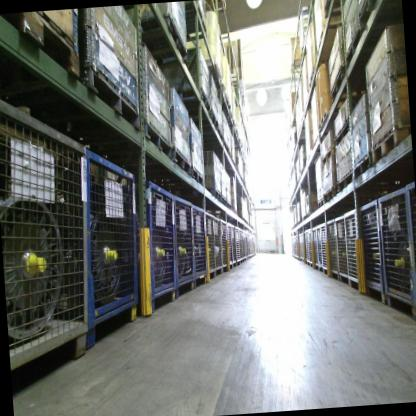pallet: (3, 9, 83, 85), (74, 59, 142, 139), (135, 13, 190, 71), (370, 123, 413, 166), (139, 117, 174, 165), (331, 63, 375, 99), (313, 22, 344, 65), (356, 0, 393, 32), (316, 103, 348, 136), (178, 87, 211, 117), (189, 108, 221, 133), (342, 35, 367, 66), (320, 0, 355, 20), (172, 145, 192, 177), (331, 121, 353, 145), (352, 153, 373, 178), (336, 170, 356, 196), (189, 160, 206, 190), (201, 0, 231, 17), (318, 145, 336, 165), (323, 185, 339, 205), (217, 89, 232, 109), (312, 134, 328, 152), (307, 65, 319, 89), (208, 186, 222, 205), (318, 196, 325, 211), (306, 211, 317, 219), (227, 199, 233, 212), (222, 195, 228, 207), (232, 206, 238, 217)
stillage: (0, 72, 107, 398), (30, 132, 150, 346), (134, 166, 182, 311), (376, 178, 416, 315), (167, 189, 199, 302), (357, 195, 387, 308), (188, 198, 209, 291), (343, 204, 365, 292), (405, 175, 416, 328), (202, 209, 218, 285), (334, 211, 350, 287), (326, 213, 340, 282), (212, 213, 224, 277), (219, 215, 230, 272), (320, 221, 330, 274), (229, 221, 238, 268), (226, 219, 234, 270), (312, 225, 320, 271), (233, 224, 241, 268), (316, 223, 323, 269), (308, 227, 315, 270), (304, 228, 311, 267), (237, 224, 243, 263), (240, 225, 245, 263), (301, 232, 307, 263), (298, 233, 304, 261), (243, 229, 248, 262)
